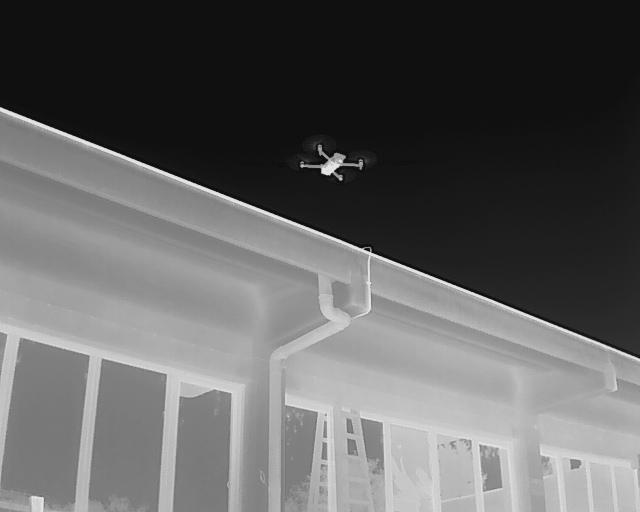drone: (290, 140, 371, 192)
